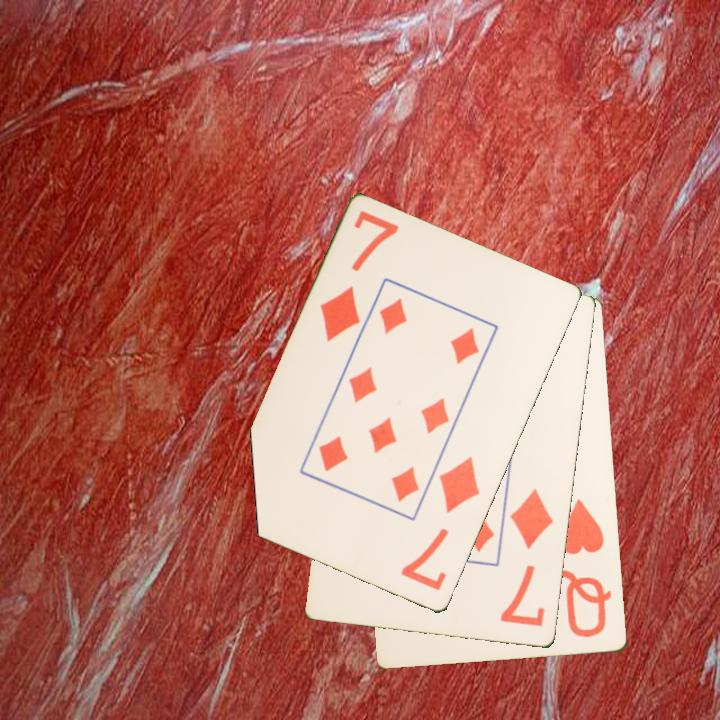7d: (397, 453, 484, 595), (316, 207, 402, 345), (497, 486, 557, 630)
Qh: (557, 496, 615, 641)
